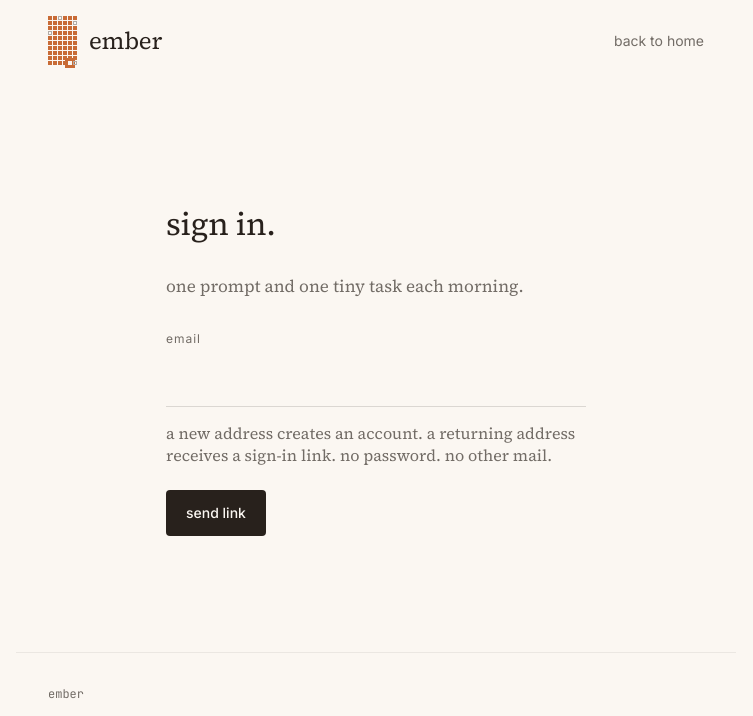
SigninPage — error state › shows role="alert" with the API error message on failure
The width and height of the screenshot is (753, 716).
In the field labelled "email": (376, 382) [166,357,586,407], type "user@example.com"
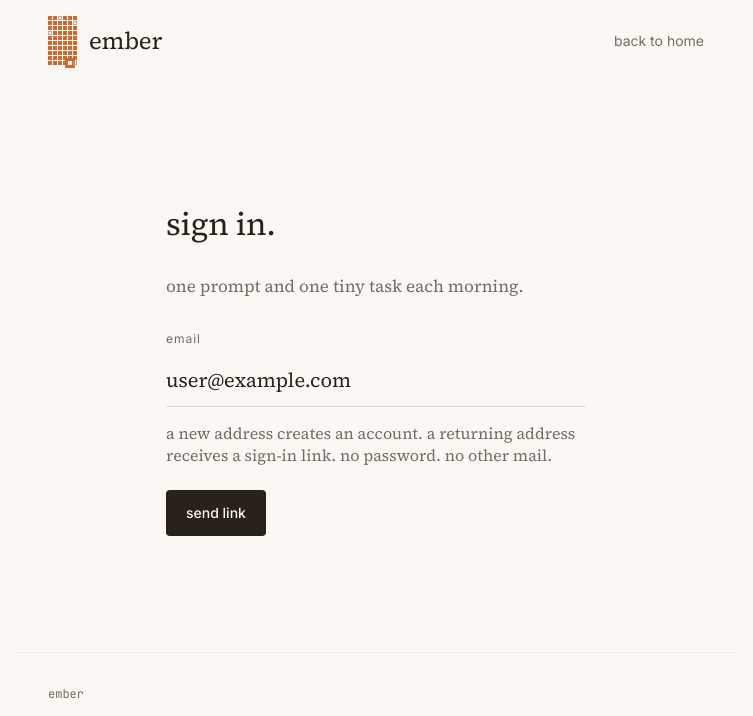
Submit the form, box [166,330,586,536]
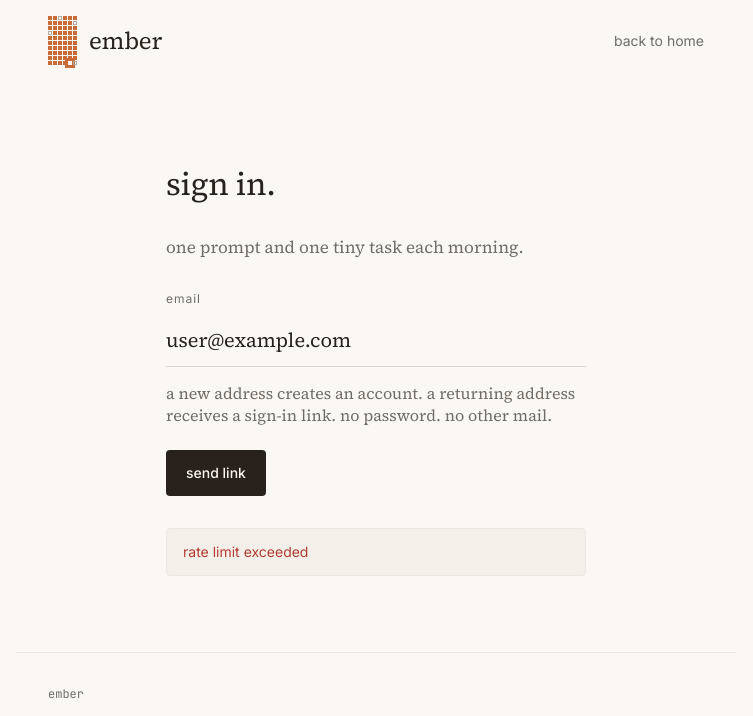
Now the message "rate limit exceeded" is shown, box [166,528,586,576]
Now the message reads "rate limit exceeded", box [183,543,308,560]
